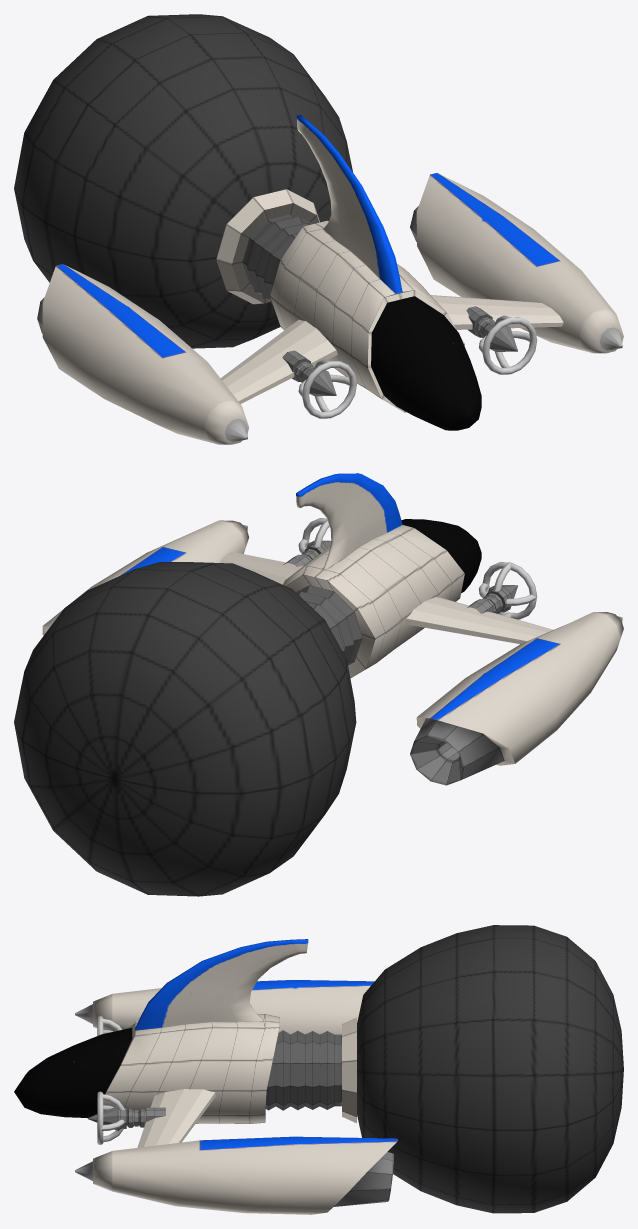
Rendered from gatherer_ship_blue.fbx.
3 renders of one model, top to bottom at view 1: azimuth 30°, elevation 25°; view 2: azimuth 150°, elevation 25°; view 3: azimuth 270°, elevation 25°, orthographic. The views are drawn at different scales.
Visible parts, largest first — view 1: gatherer; view 2: gatherer; view 3: gatherer.
Boxes of the visible parts, x1,y1,x2,y2 form: gatherer: [14, 14, 623, 444]; gatherer: [14, 473, 623, 896]; gatherer: [14, 925, 623, 1214].
Size of the model in its own units: 5.07 by 3.13 by 6.61.
1 material, 1 textured.
